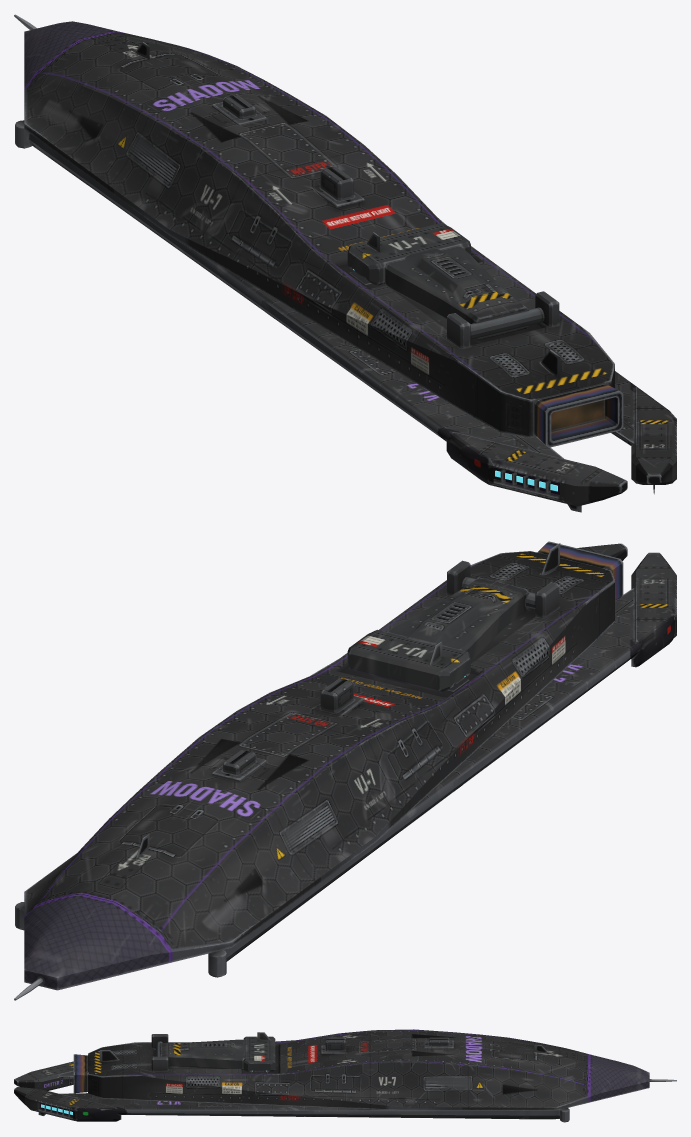
The model's file is MaldJ.fbx.
The picture shows the model from 3 angles, top to bottom: view 1: azimuth 30°, elevation 25°; view 2: azimuth 150°, elevation 25°; view 3: azimuth 270°, elevation 25°; orthographic projection. The views are drawn at different scales.
Parts seen in each view (by area): view 1: Skin, WingL, Mast, WingR; view 2: Skin, WingL, Mast, WingR; view 3: Skin, WingR, Mast, WingL.
Part boxes in pixels (x1,y1,x2,y2): Skin: [14, 14, 623, 447]; WingL: [15, 120, 627, 512]; Mast: [347, 223, 544, 339]; WingR: [611, 371, 676, 494]; Skin: [14, 541, 623, 1000]; WingL: [208, 552, 676, 977]; Mast: [347, 577, 535, 692]; WingR: [15, 543, 627, 930]; Skin: [73, 1029, 676, 1110]; WingR: [14, 1087, 569, 1122]; Mast: [156, 1032, 275, 1071]; WingL: [14, 1061, 73, 1090].
Size of what is drawn, in the model's own units: 44.4 by 25.3 by 230.
Materials: 3 (1 with a texture image).
